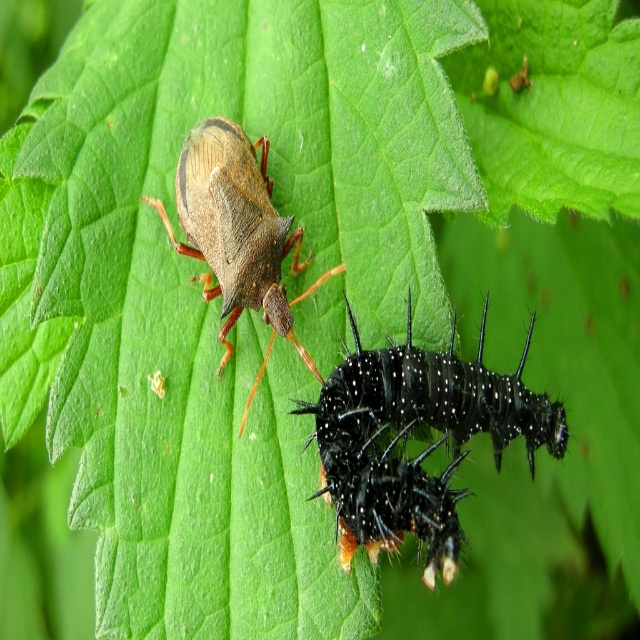Caterpillar: (284, 277, 580, 588)
